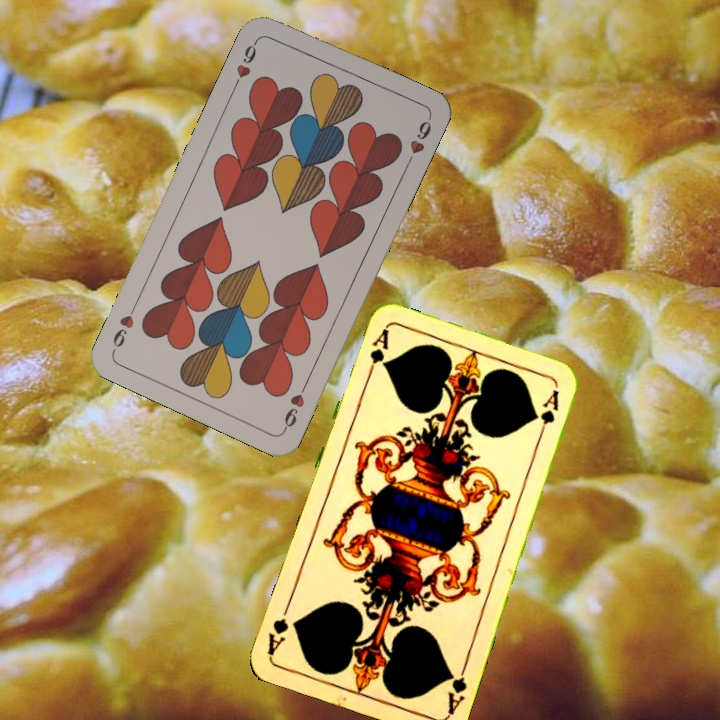GA: (362, 325, 391, 383), (443, 659, 470, 717)
H9: (279, 377, 311, 433), (229, 35, 261, 91)
